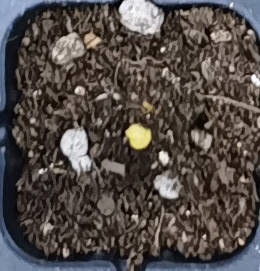pepper seed: (49, 45, 203, 197)
